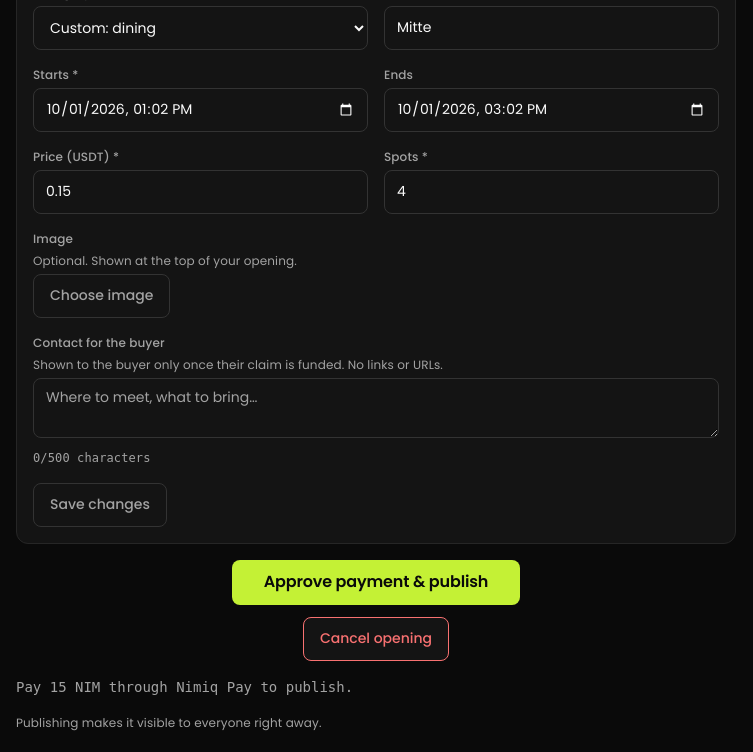
Test case: NIM listing fee publish flow › removes the approve button once a fee hash exists (no double charge)
(page scrolled)
Click the button "Approve payment & publish" at (376, 582), box left=232, top=560, right=520, bottom=605
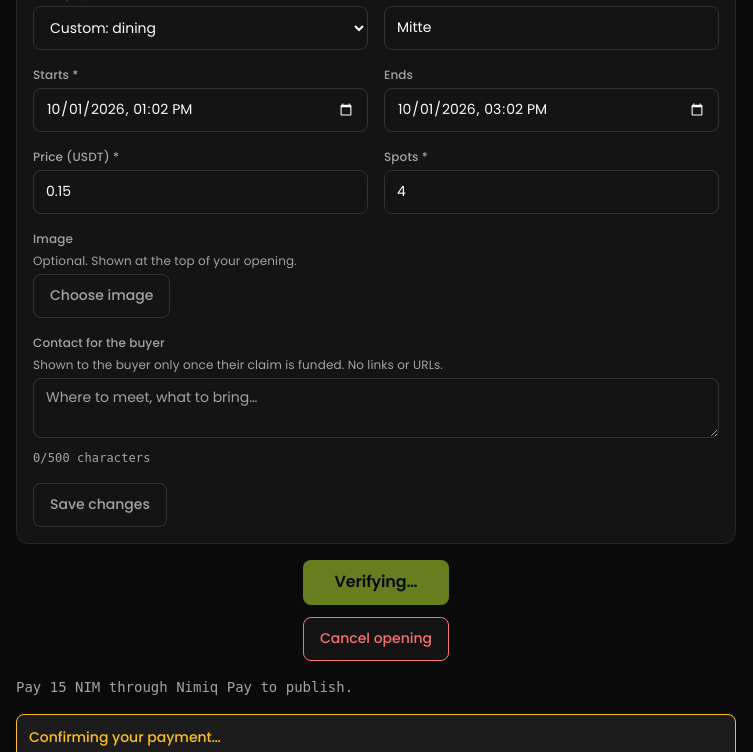
expect the button "Approve payment & publish" is gone: met
